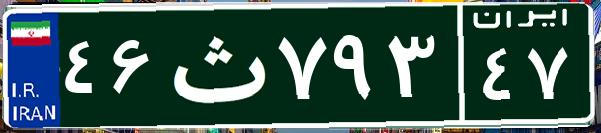3: (385, 28, 445, 110)
4: (57, 26, 110, 107), (475, 38, 525, 113)
6: (110, 28, 158, 105)
7: (273, 28, 330, 110), (525, 38, 570, 115)
9: (330, 28, 385, 110)
ث: (158, 15, 273, 115)
